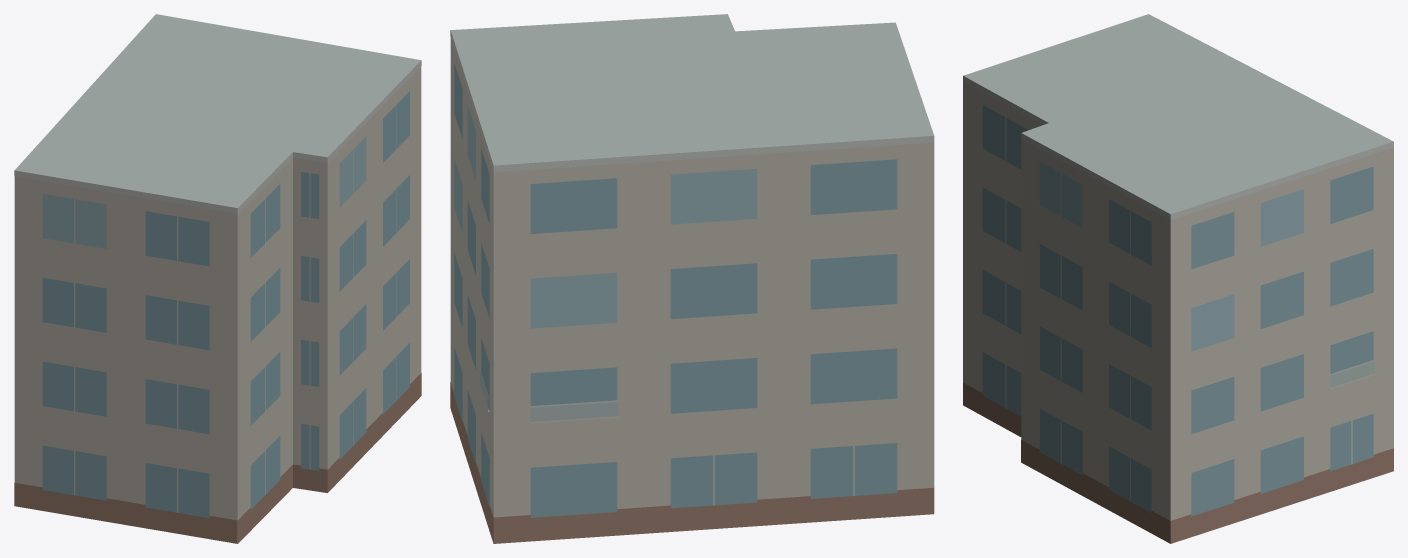
File: survey-upis-32845870.glb
3 views of the same model, side by side, from view 1: azimuth 30°, elevation 25°; view 2: azimuth 150°, elevation 25°; view 3: azimuth 270°, elevation 25° (orthographic). The views are drawn at different scales.
Visible parts, largest first — view 1: survey-upis-32845870.tmp; view 2: survey-upis-32845870.tmp; view 3: survey-upis-32845870.tmp.
Boxes of the visible parts, <box> form: survey-upis-32845870.tmp: <box>14,14,421,543</box>; survey-upis-32845870.tmp: <box>450,14,934,543</box>; survey-upis-32845870.tmp: <box>963,14,1393,543</box>.
Bounding box in the file's own units: 18.23 × 13.98 × 16.57.
